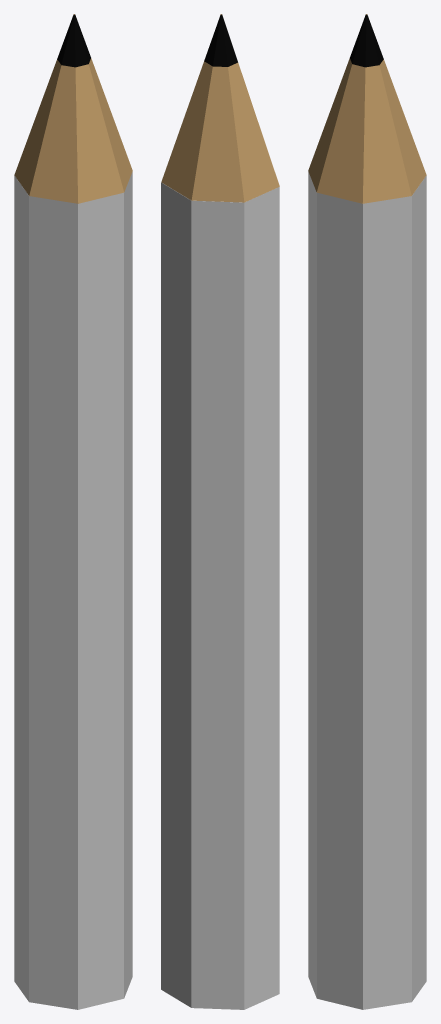
Rendered from kalem.fbx.
The picture shows the model from 3 angles, left to right: view 1: azimuth 30°, elevation 25°; view 2: azimuth 150°, elevation 25°; view 3: azimuth 330°, elevation 25°; orthographic projection.
Visible parts, largest first — view 1: Circle, Circle.001, Circle.002; view 2: Circle, Circle.001, Circle.002; view 3: Circle, Circle.001, Circle.002.
Part boxes in pixels (<box>): Circle: <box>14,172,132,1009</box>; Circle.001: <box>14,14,132,203</box>; Circle.002: <box>57,14,90,67</box>; Circle: <box>161,182,279,1009</box>; Circle.001: <box>161,14,279,202</box>; Circle.002: <box>204,14,237,66</box>; Circle: <box>308,172,426,1009</box>; Circle.001: <box>308,14,426,203</box>; Circle.002: <box>350,14,383,67</box>.
Size of the model in its own units: 144 by 1361 by 152.
